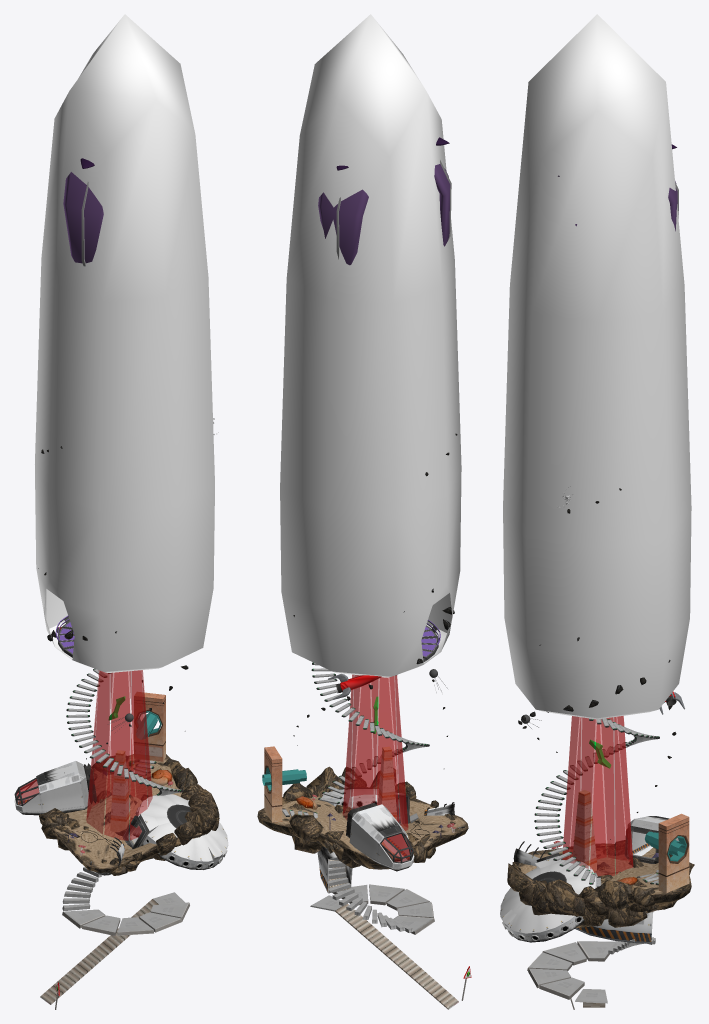
File: Colony_Tower_Art.fbx
3 views of the same model, side by side, from view 1: azimuth 30°, elevation 25°; view 2: azimuth 150°, elevation 25°; view 3: azimuth 270°, elevation 25° (orthographic). The views are drawn at different scales.
Parts seen in each view (by area): view 1: Colony_Tower_Art; view 2: Colony_Tower_Art; view 3: Colony_Tower_Art.
Boxes of the visible parts, x1,y1,x2,y2 form: Colony_Tower_Art: (14, 14, 228, 1009); Colony_Tower_Art: (257, 14, 471, 1009); Colony_Tower_Art: (500, 14, 694, 1009).
Size of the model in its own units: 1603 by 9125 by 1553.
